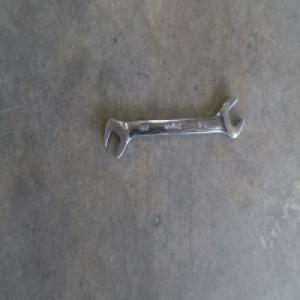Wrench: (103, 95, 243, 156)
